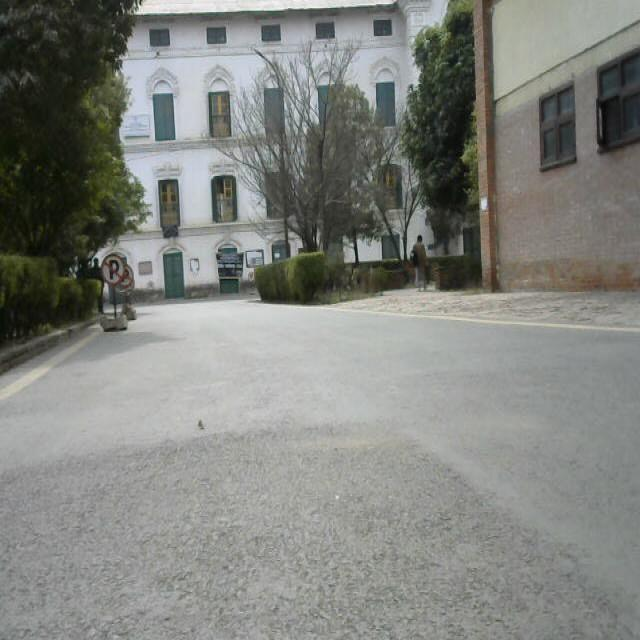Buildings: (123, 12, 433, 266), (470, 2, 640, 302)
Road: (0, 333, 640, 639), (98, 254, 126, 336)
grass: (255, 253, 339, 307)
trees: (0, 3, 151, 272), (412, 1, 491, 262)
